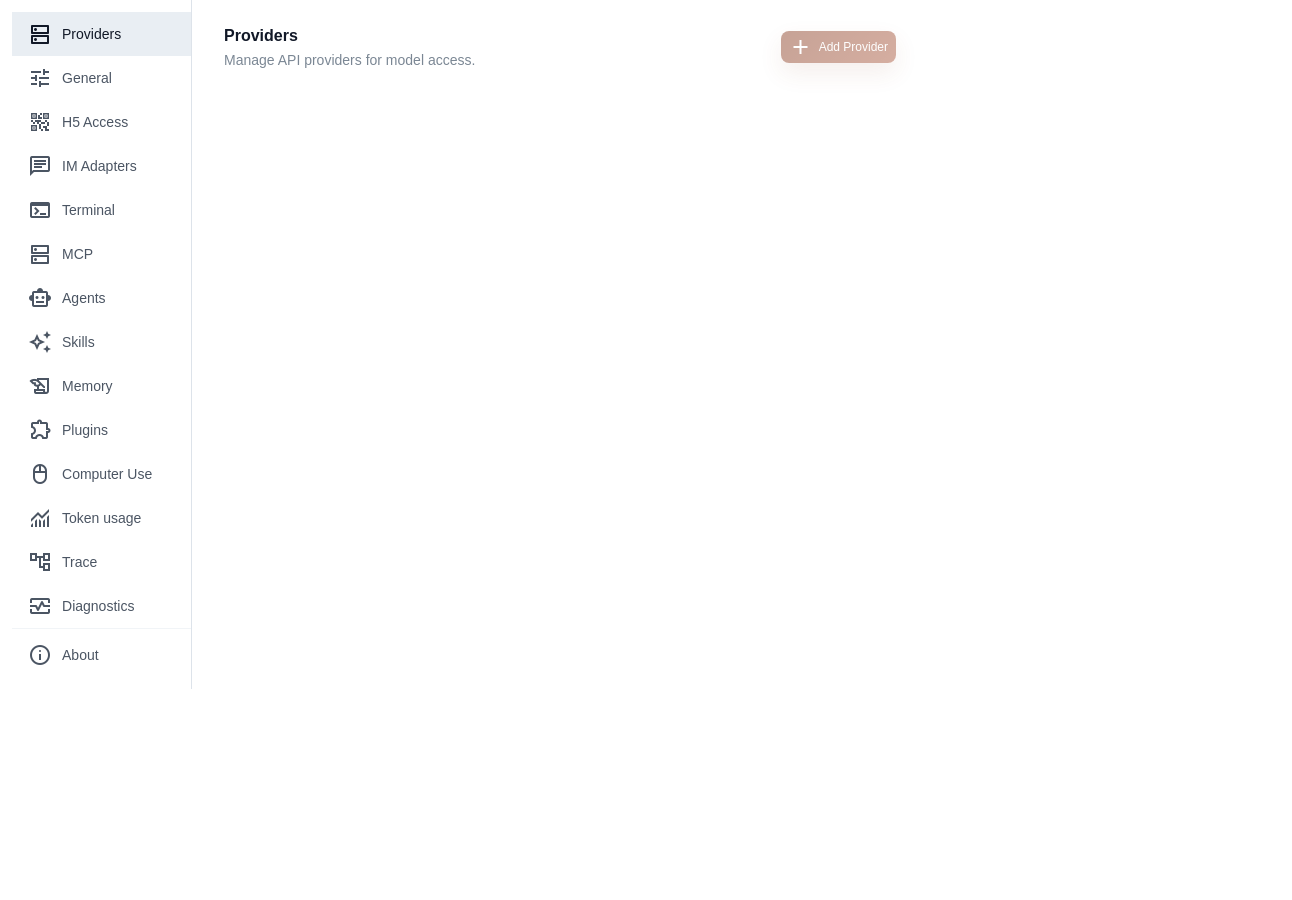
Test case: Settings > General tab › shows WebFetch preflight toggle enabled by default
The image size is (1292, 900).
Click the button "General".
click(102, 78)  # box [12,56,191,100]
(page scrolled)
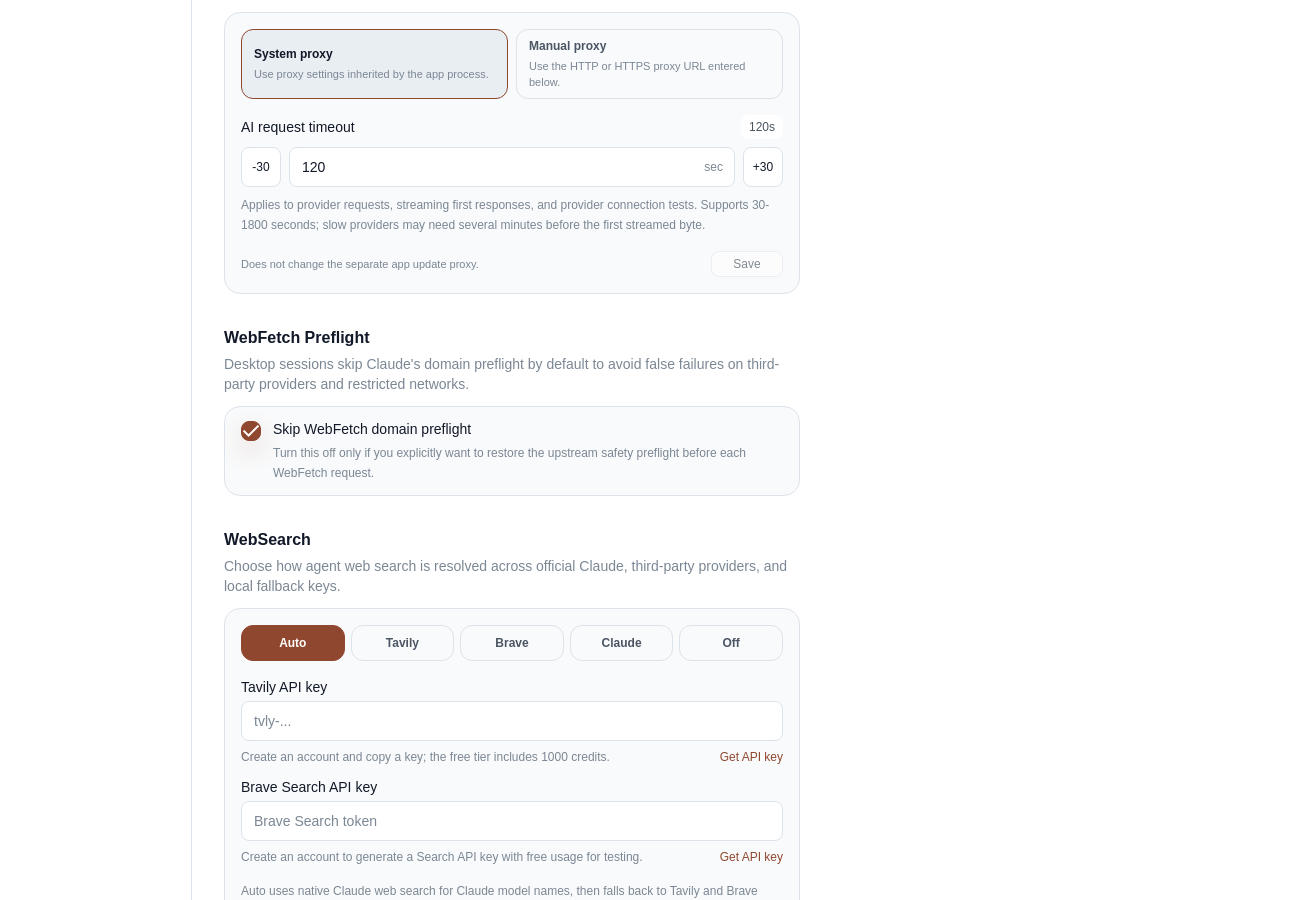
Now the checkbox labelled "Skip WebFetch domain preflight" is checked, box [224,406,800,496]
